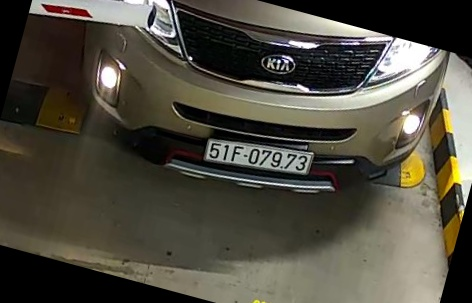plate: (197, 133, 320, 180)
